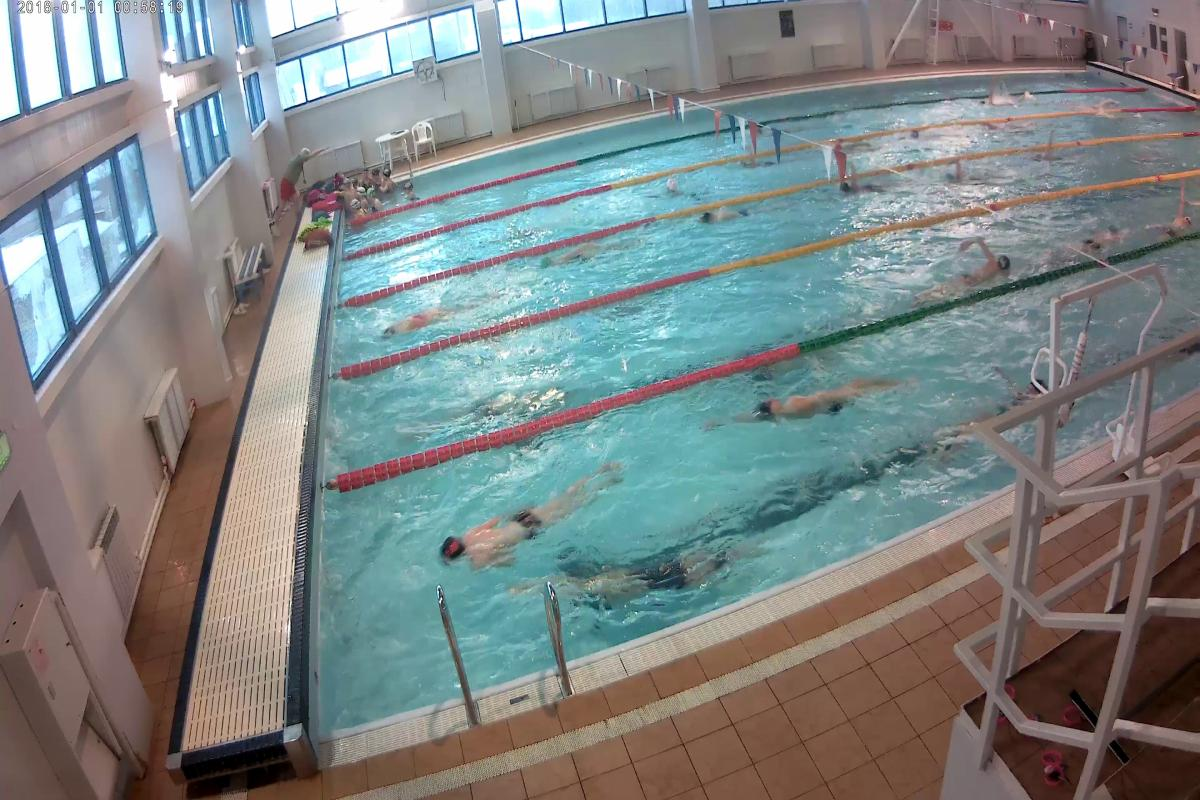swimmer: (433, 480, 586, 554), (730, 386, 890, 420), (554, 574, 723, 599), (939, 250, 1013, 294), (534, 243, 648, 267), (699, 198, 763, 239), (1144, 211, 1200, 243), (386, 310, 453, 336), (944, 161, 992, 189), (838, 169, 900, 190), (1025, 143, 1069, 167), (1067, 235, 1119, 253)
